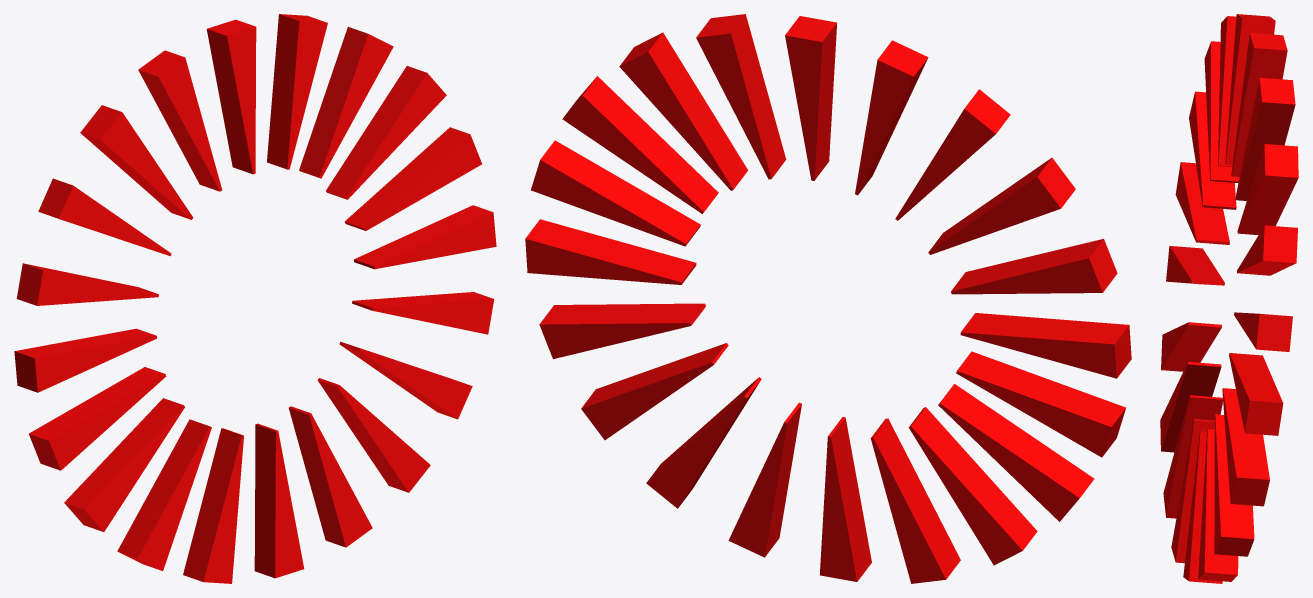
Rendered from red_3d_sunburst.obj.
3 views of the same model, side by side, from view 1: azimuth 30°, elevation 25°; view 2: azimuth 150°, elevation 25°; view 3: azimuth 270°, elevation 25° (orthographic). The views are drawn at different scales.
Parts seen in each view (by area): view 1: Red_Sunburst_20_Spokes; view 2: Red_Sunburst_20_Spokes; view 3: Red_Sunburst_20_Spokes.
Part boxes in pixels (left/top/right/bottom): Red_Sunburst_20_Spokes: left=14, top=14, right=496, bottom=583; Red_Sunburst_20_Spokes: left=525, top=14, right=1131, bottom=583; Red_Sunburst_20_Spokes: left=1160, top=14, right=1298, bottom=583.
Size of the model in its own units: 7.04 by 7.02 by 1.71.
